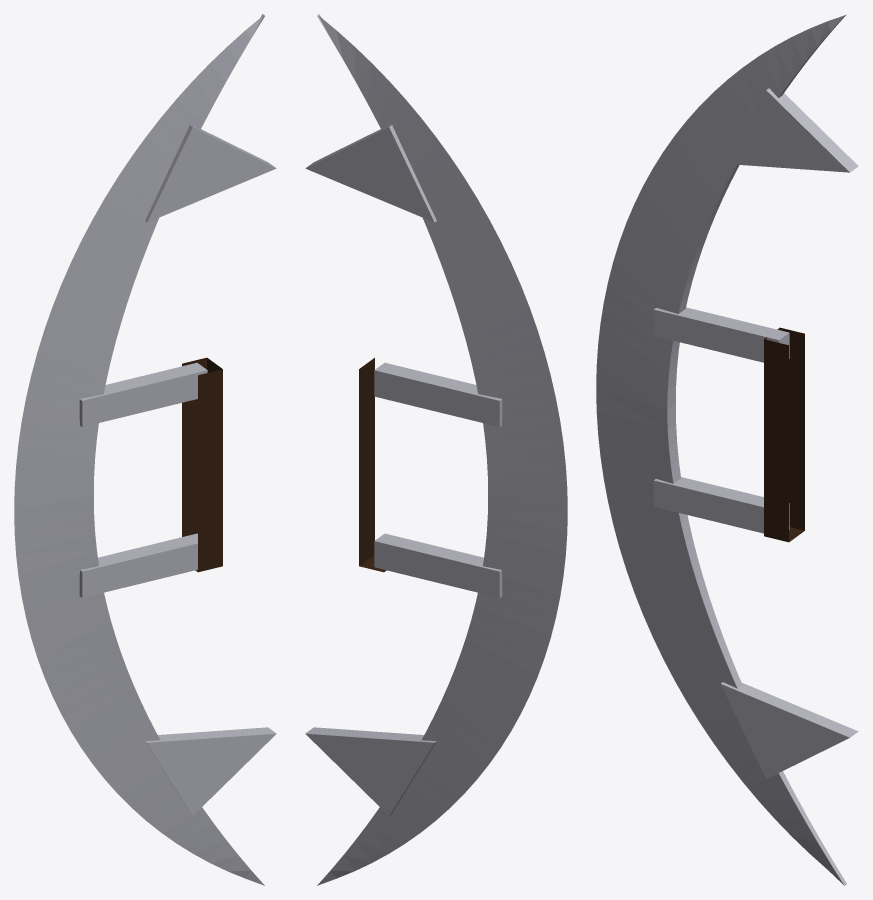
The model's file is Batleth.obj.
3 renders of one model, left to right at view 1: azimuth 30°, elevation 25°; view 2: azimuth 150°, elevation 25°; view 3: azimuth 330°, elevation 25°, orthographic.
Visible parts, largest first — view 1: Batleth; view 2: Batleth; view 3: Batleth.
Part boxes in pixels (bbox=[...]): Batleth: bbox=[14, 14, 276, 885]; Batleth: bbox=[305, 14, 567, 885]; Batleth: bbox=[596, 14, 858, 885].
Bounding box in the file's own units: 0.4115 × 1.32 × 0.044.
